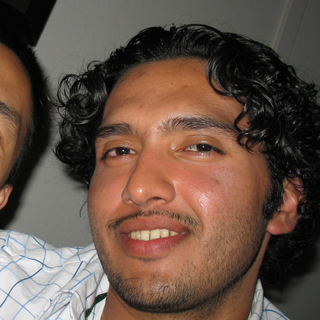eye: (166, 129, 232, 167), (97, 141, 143, 167)
